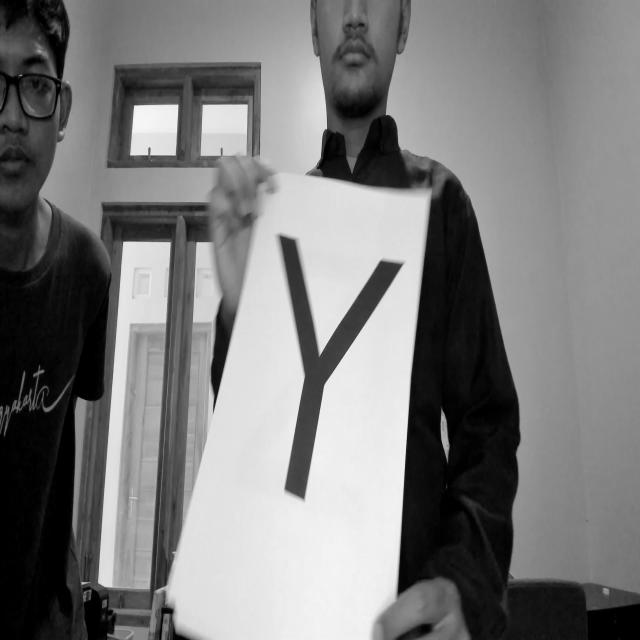y: (252, 220, 400, 507)
